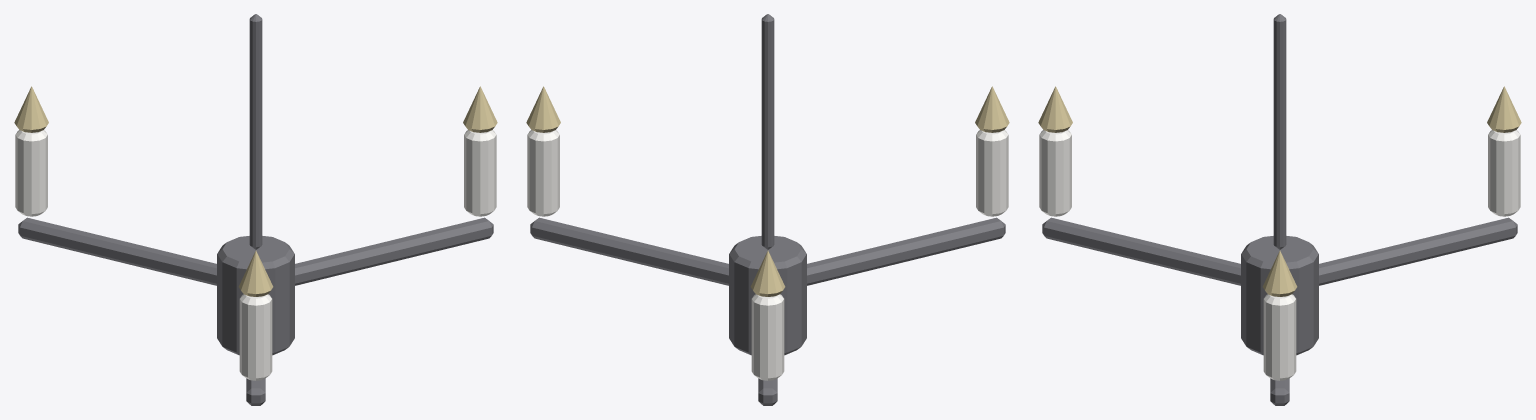
Rendered from SM_Chandelier.fbx.
The picture shows the model from 3 angles, left to right: view 1: azimuth 30°, elevation 25°; view 2: azimuth 150°, elevation 25°; view 3: azimuth 270°, elevation 25°; orthographic projection.
Parts seen in each view (by area): view 1: Chandelier; view 2: Chandelier; view 3: Chandelier.
Part boxes in pixels (bbox=[...]): Chandelier: bbox=[14, 14, 497, 405]; Chandelier: bbox=[526, 14, 1009, 405]; Chandelier: bbox=[1038, 14, 1521, 405].
Bounding box in the file's own units: 65.37 × 56 × 74.65.
